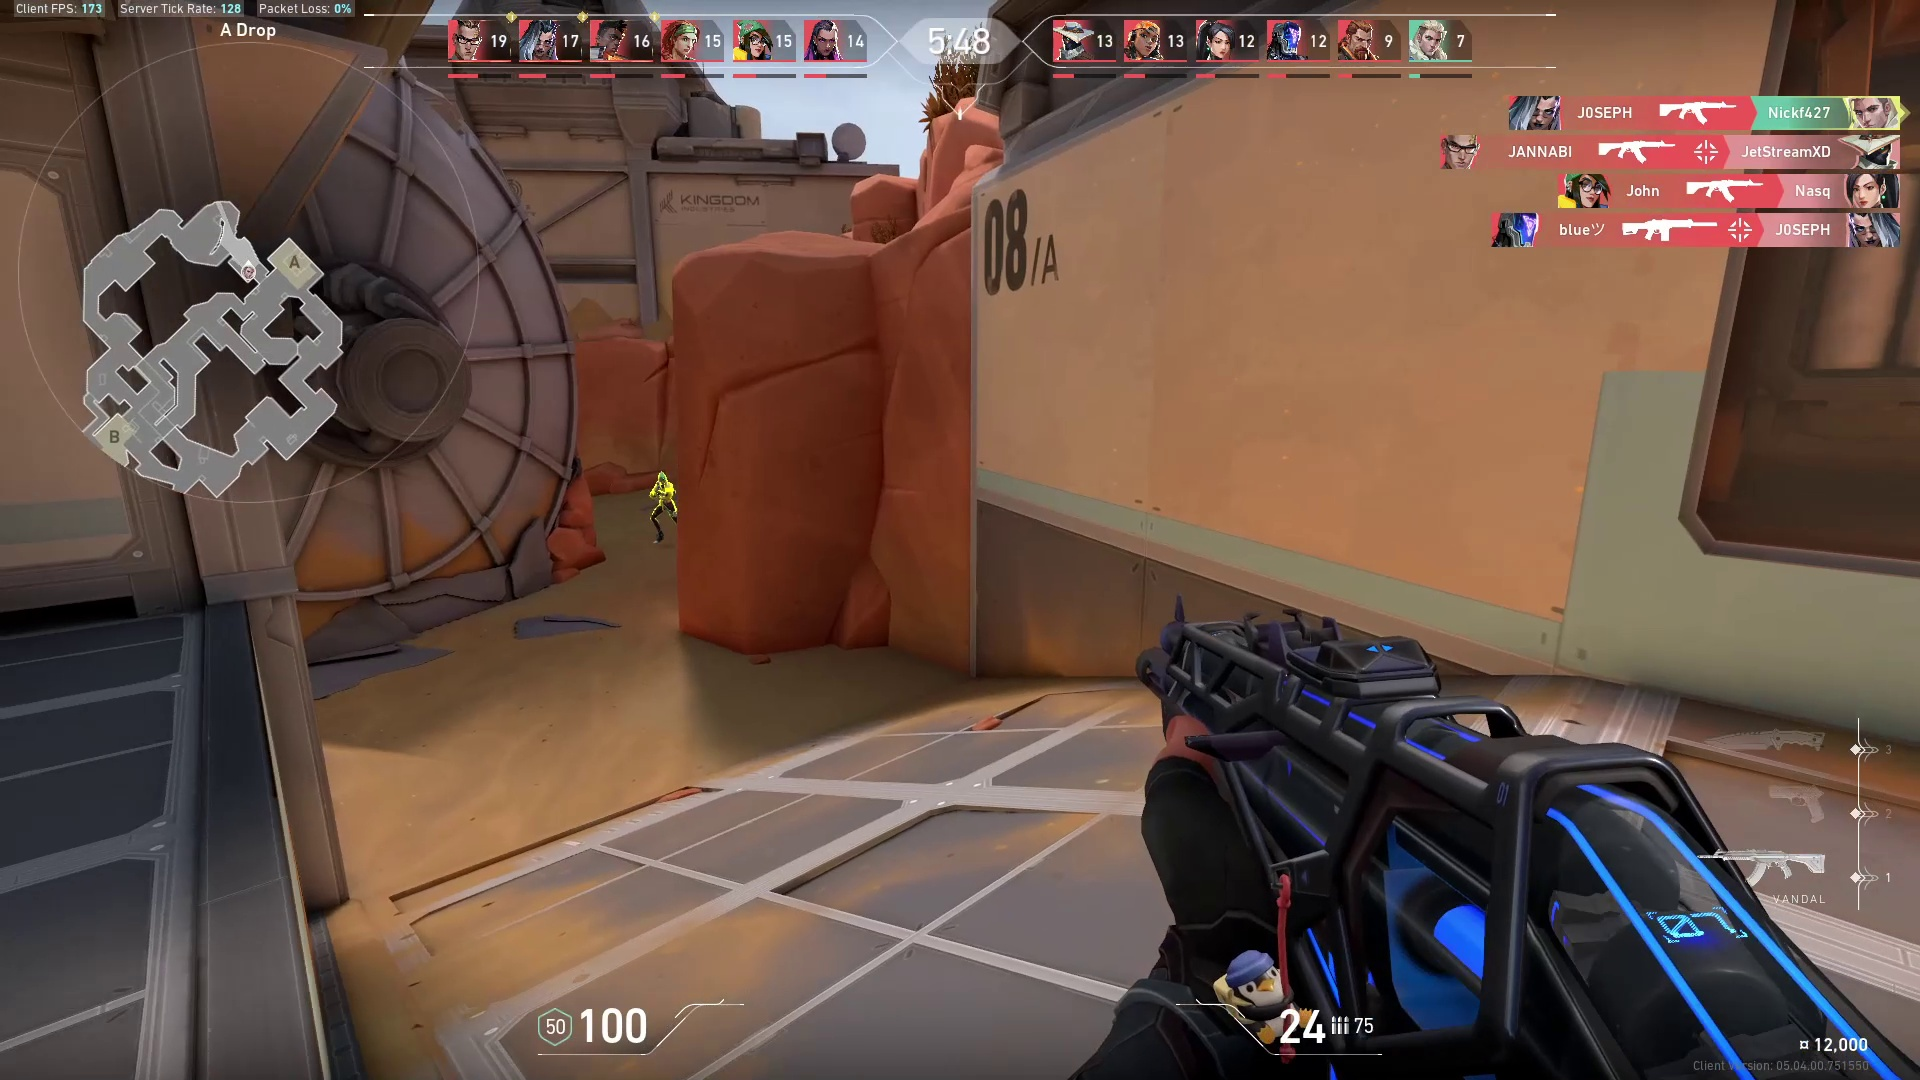enemy_body: (647, 483, 682, 544)
enemy_head: (654, 469, 669, 486)
